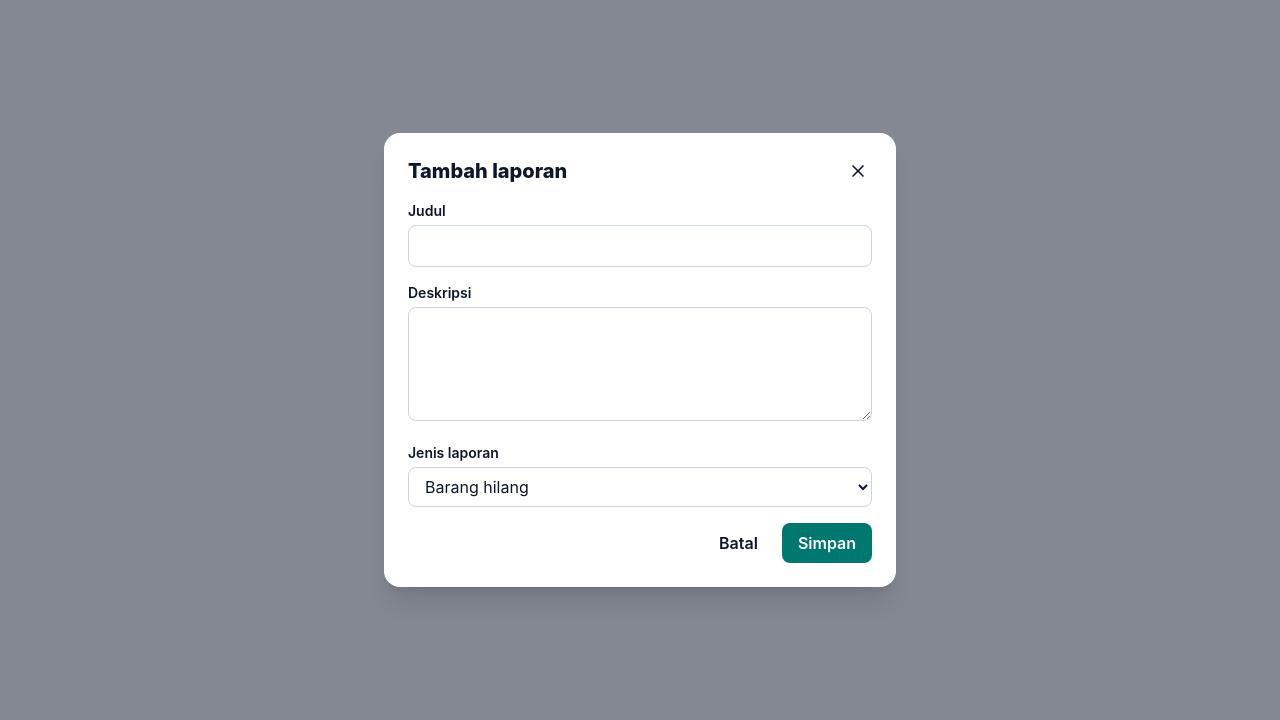
Scenario: AddModal › validasi: deskripsi kosong walau judul terisi
Step 1. Type "Dompet" into the field labelled "Judul" → (640, 246), box [408,225,872,267]
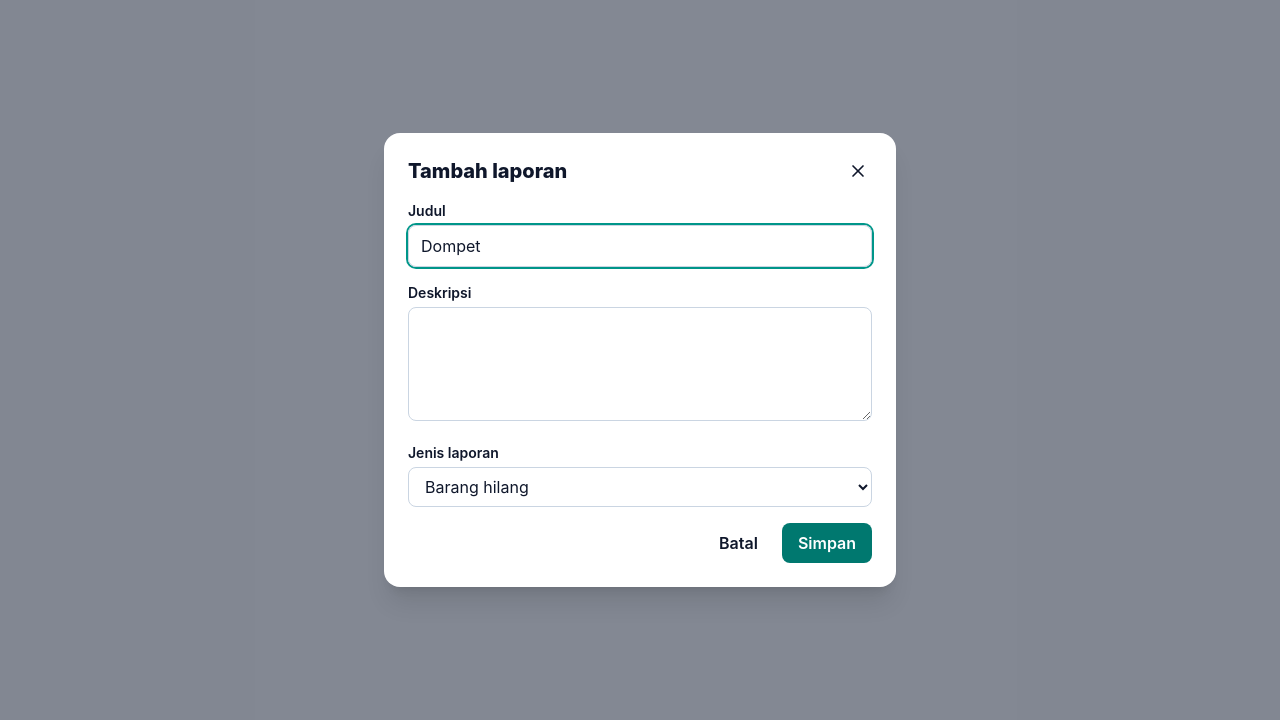
Step 2. Click the button "Simpan" → (827, 543), box [782,523,872,563]
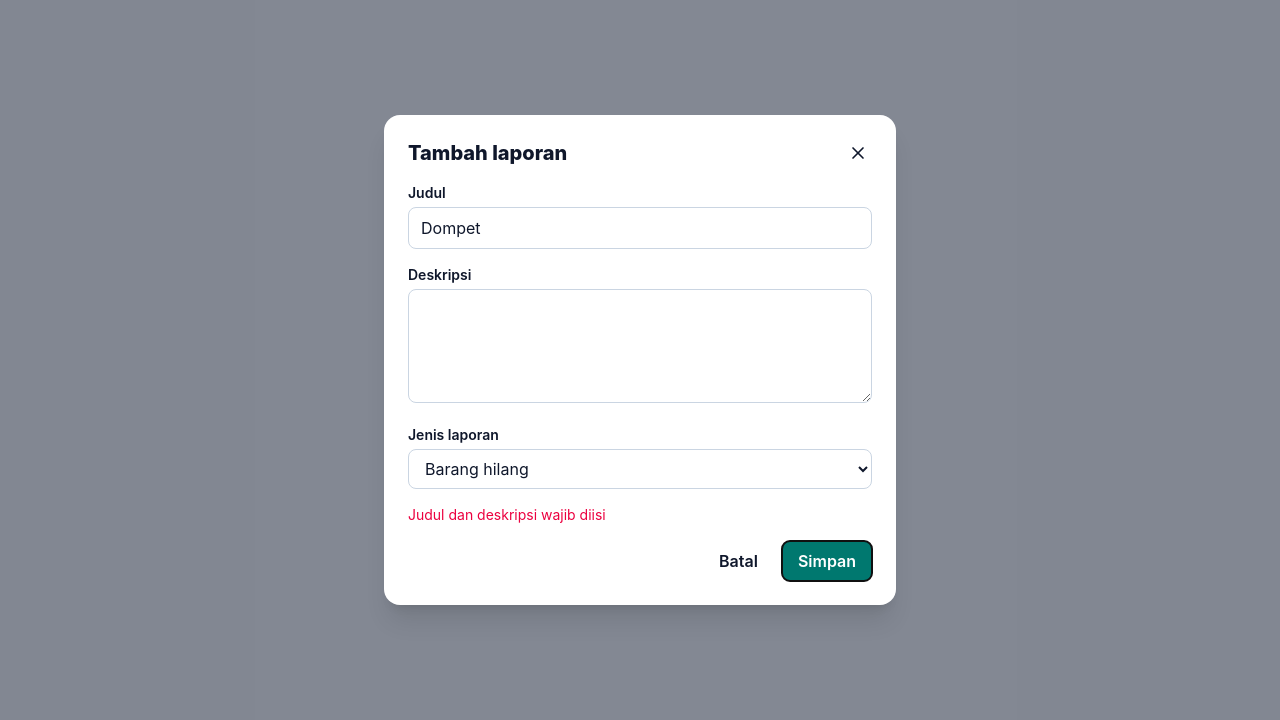
Result: the text "Judul dan deskripsi wajib diisi" is shown at [408,506,606,523]
